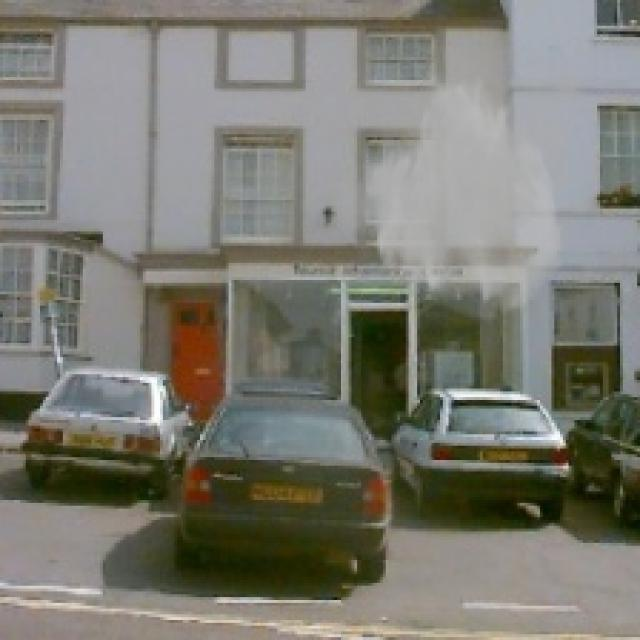Smoke: (326, 45, 592, 318)
